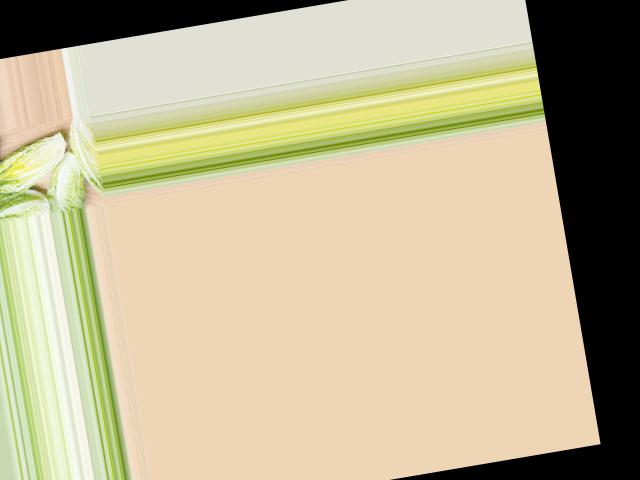lettuce: (64, 116, 105, 198)
